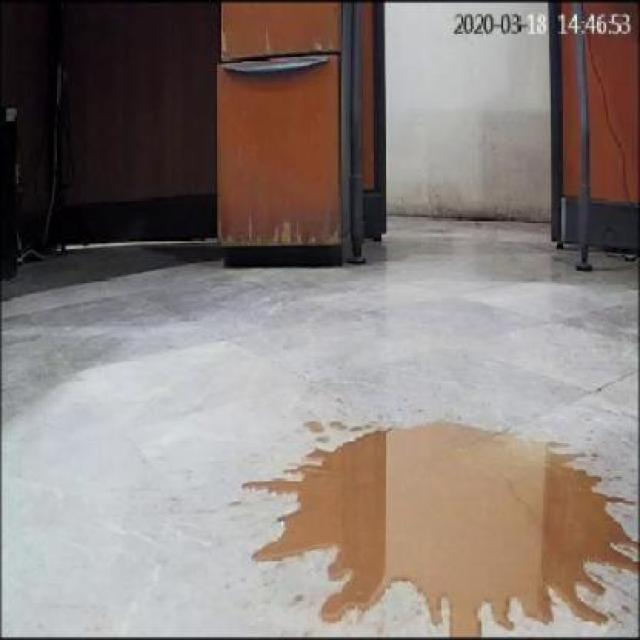spillage: (247, 422, 637, 637)
